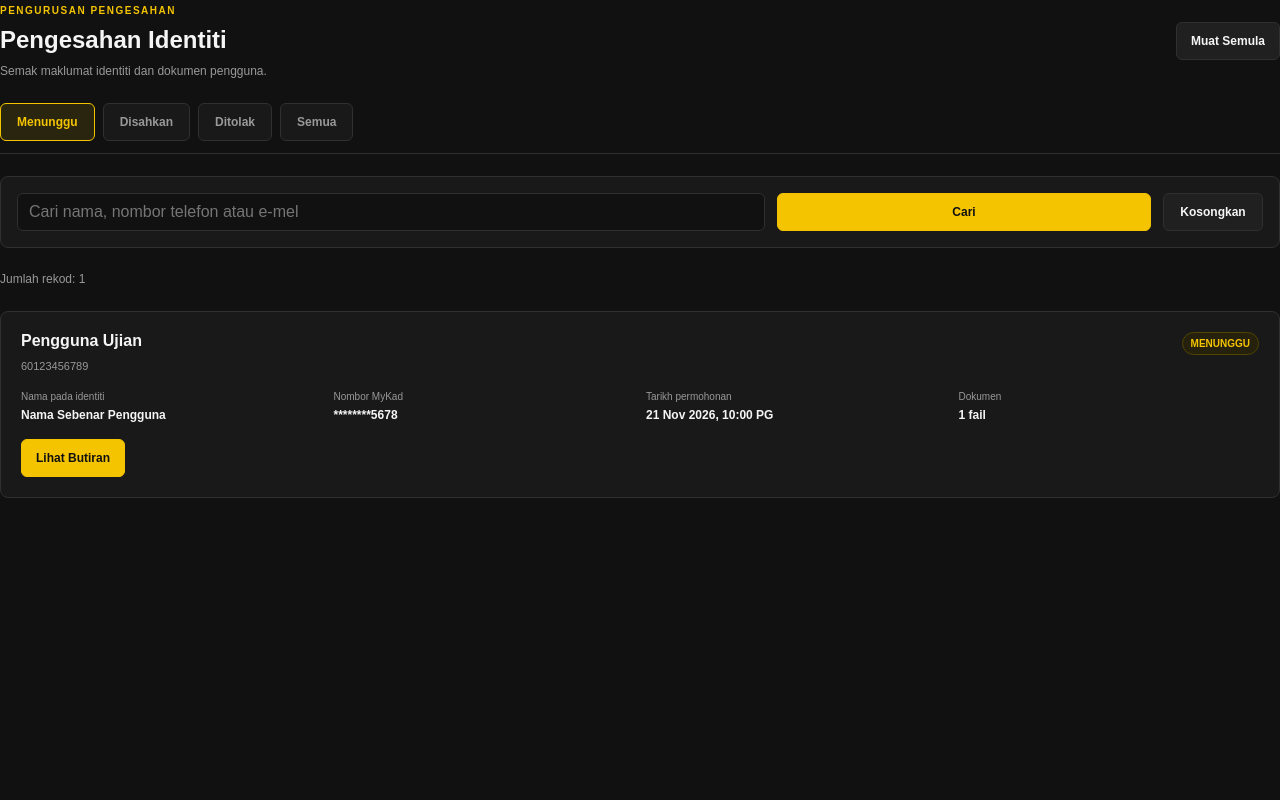
Test: IdentityVerificationsPage › menghantar alasan penolakan kepada API
The width and height of the screenshot is (1280, 800).
Later steps or results of the test are not shown.
Expected: the heading "Pengguna Ujian" is shown, [21,332,142,350]
Click the button "Lihat Butiran". click: (73, 458)
box: [21,439,125,477]
(page scrolled)
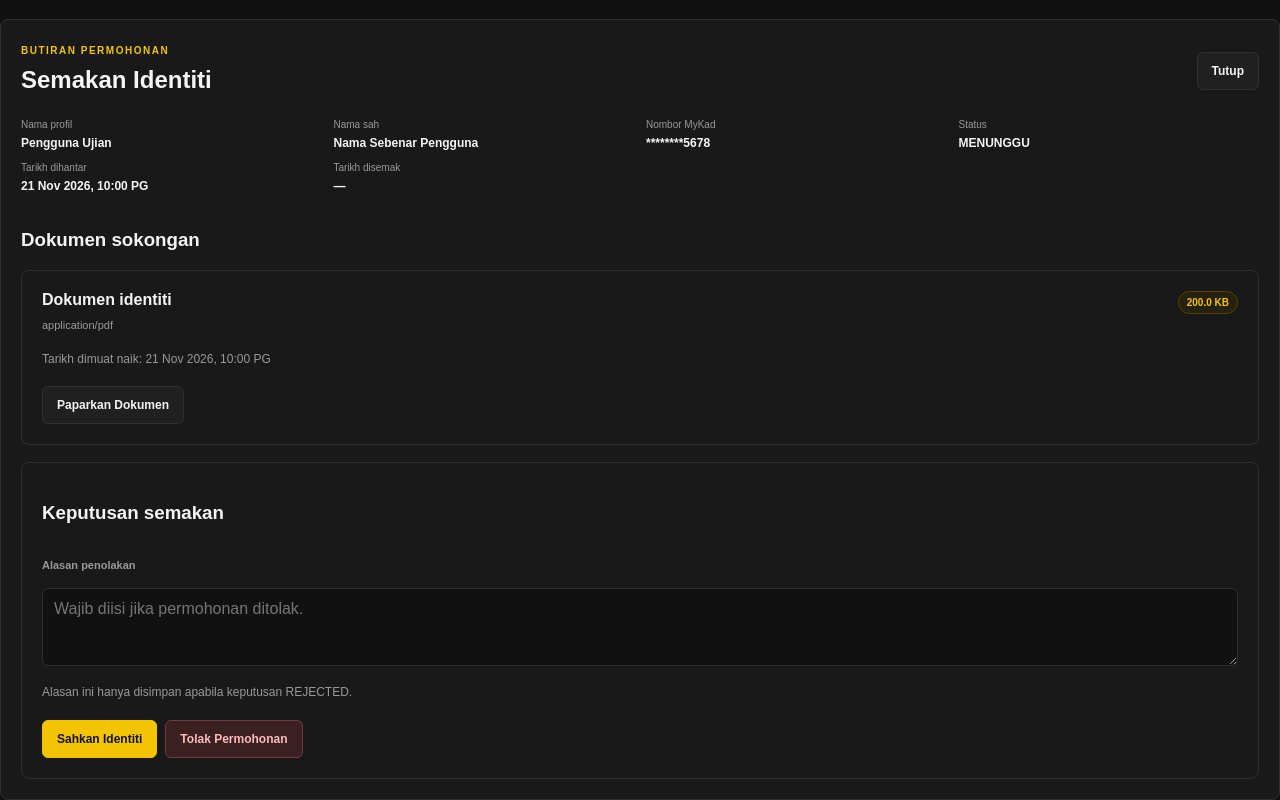
Expected: the heading "Dokumen sokongan" is shown, [21,229,200,250]
